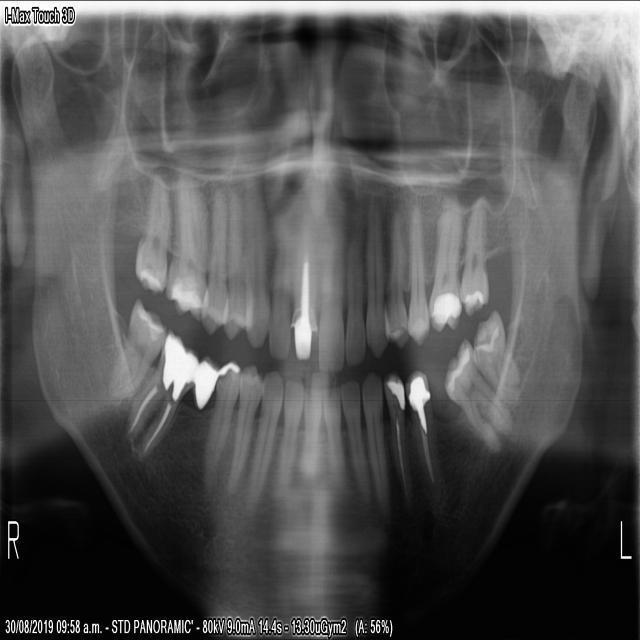LCD: (358, 361, 392, 521)
LCU: (364, 217, 390, 362)
LID: (338, 370, 373, 512), (319, 377, 346, 497)
LIU: (314, 206, 346, 376), (341, 205, 366, 366)
LMD: (438, 329, 514, 463), (470, 300, 524, 408)
LMU: (426, 188, 465, 334), (458, 184, 492, 319)
LPMD: (403, 359, 448, 515), (383, 366, 417, 524)
LPMU: (380, 192, 408, 352), (405, 195, 431, 351)
RCD: (244, 363, 284, 511)
RCU: (241, 179, 271, 355)
RID: (273, 371, 304, 496), (299, 375, 322, 485)
RIU: (288, 214, 318, 370), (265, 211, 292, 369)
RMD: (119, 321, 201, 467), (102, 285, 167, 415)
RMU: (164, 160, 208, 326), (130, 156, 171, 297)
RPMD: (195, 349, 241, 498), (222, 356, 265, 503)
RPMU: (218, 175, 254, 347), (197, 170, 229, 340)
